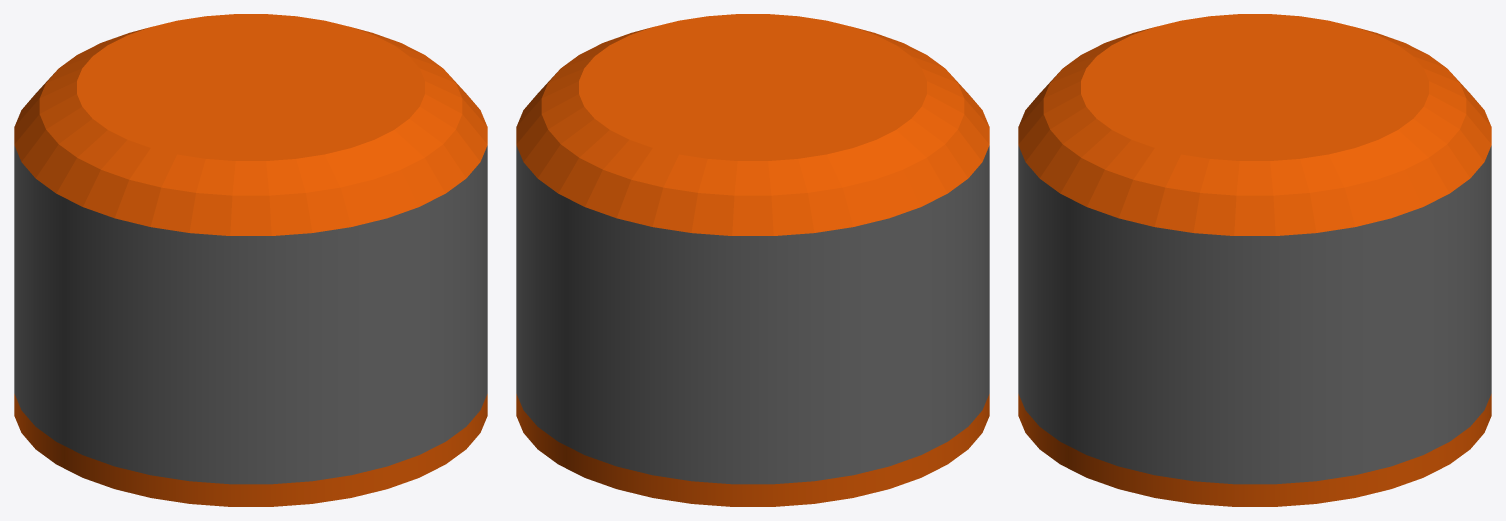
The model's file is tarot_t650_motor_orange.dae.
3 renders of one model, left to right at view 1: azimuth 30°, elevation 25°; view 2: azimuth 150°, elevation 25°; view 3: azimuth 270°, elevation 25°, orthographic.
Visible parts, largest first — view 1: Cylinder028; view 2: Cylinder028; view 3: Cylinder028.
Boxes of the visible parts, x1=… form: Cylinder028: x1=14, y1=14, x2=487, y2=506; Cylinder028: x1=516, y1=14, x2=989, y2=506; Cylinder028: x1=1018, y1=14, x2=1491, y2=506.
Bounding box in the file's own units: 39.85 × 39.85 × 29.66.
2 materials, 2 textured.
